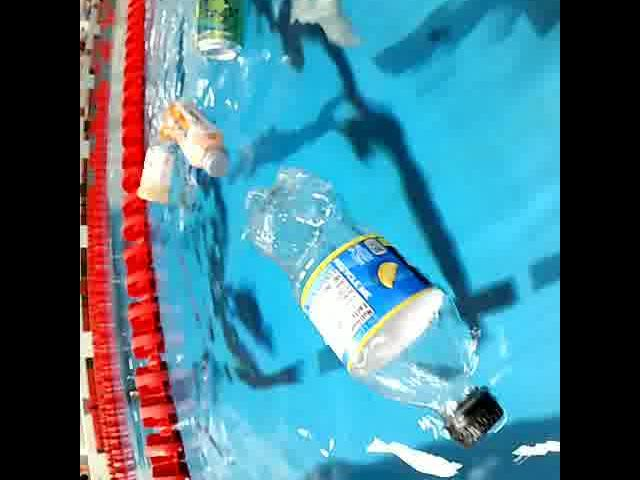Bottle: (241, 162, 511, 450), (168, 93, 232, 186), (134, 117, 174, 209)
Can: (194, 0, 254, 70)
